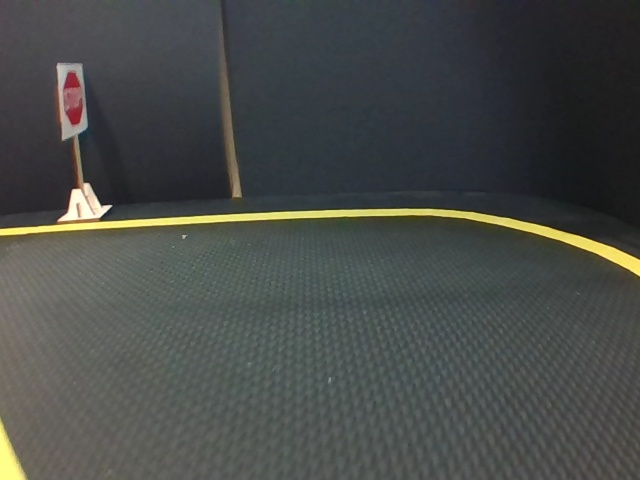stop: (57, 63, 86, 130)
